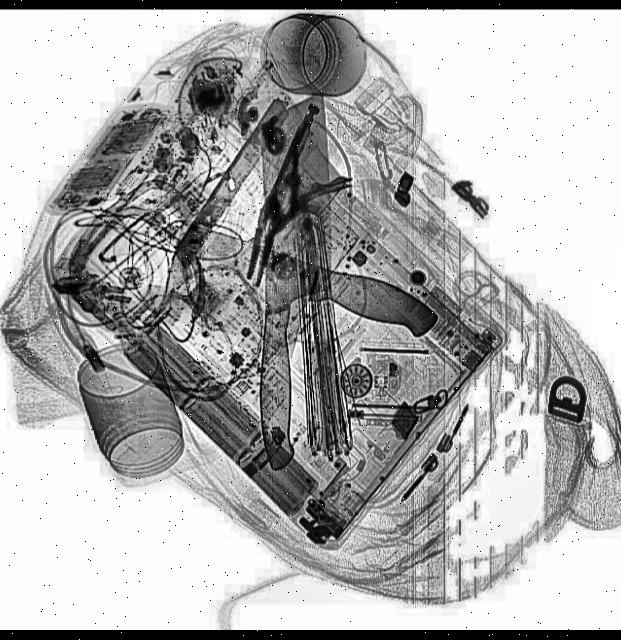Knife: (153, 221, 442, 392), (248, 92, 338, 468)
